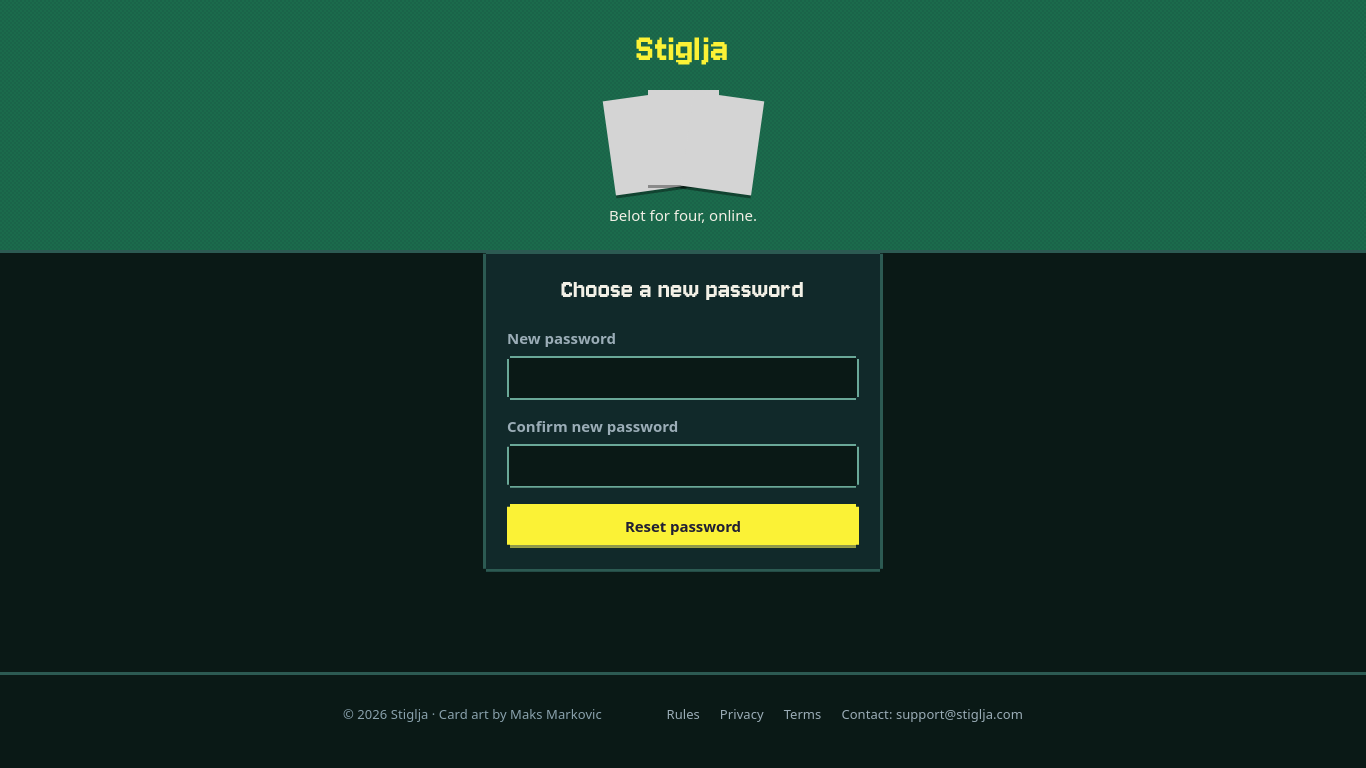
Test: ResetPasswordPage › the two fields must match
Type "brand-new-pass" into the password field labelled "New password" at (683, 378), box [507, 356, 859, 400]
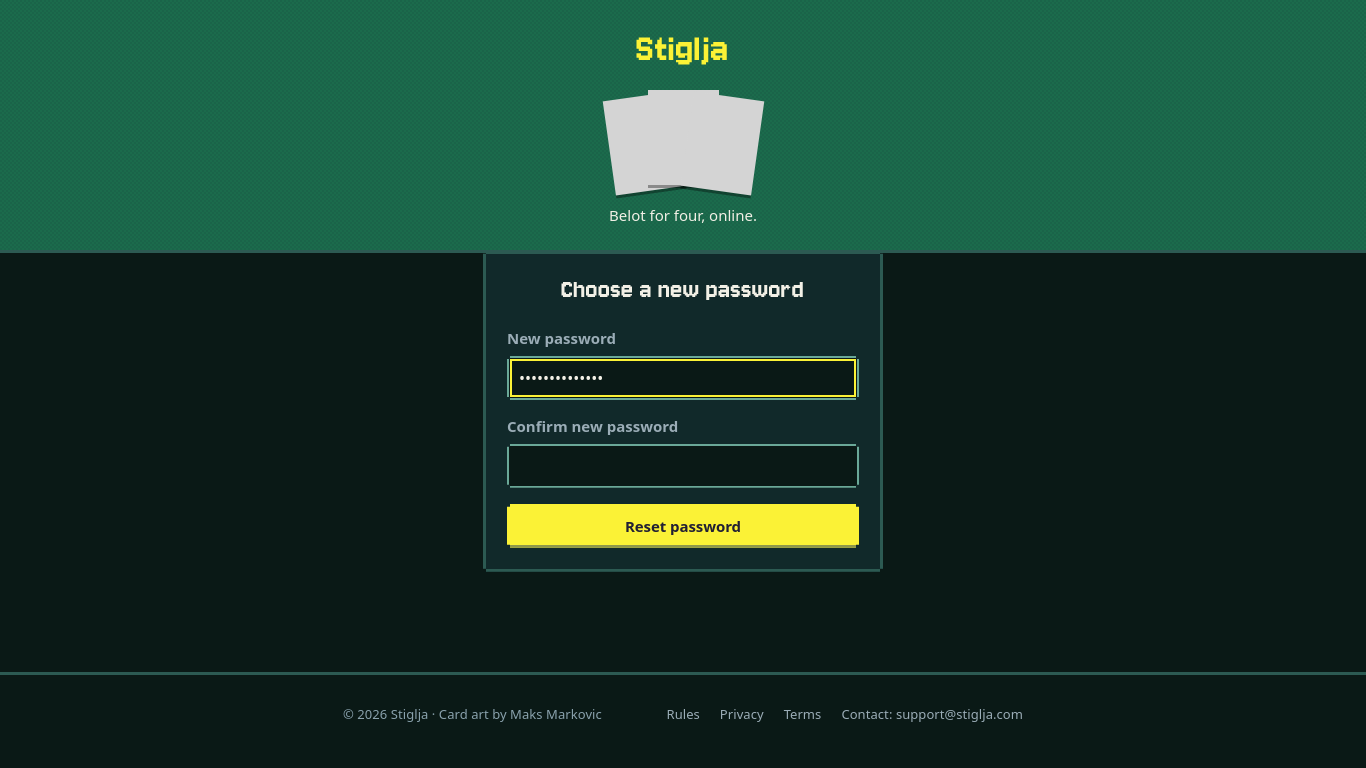
Type "brand-new-pas" into the password field labelled "Confirm new password" at (683, 466), box [507, 444, 859, 488]
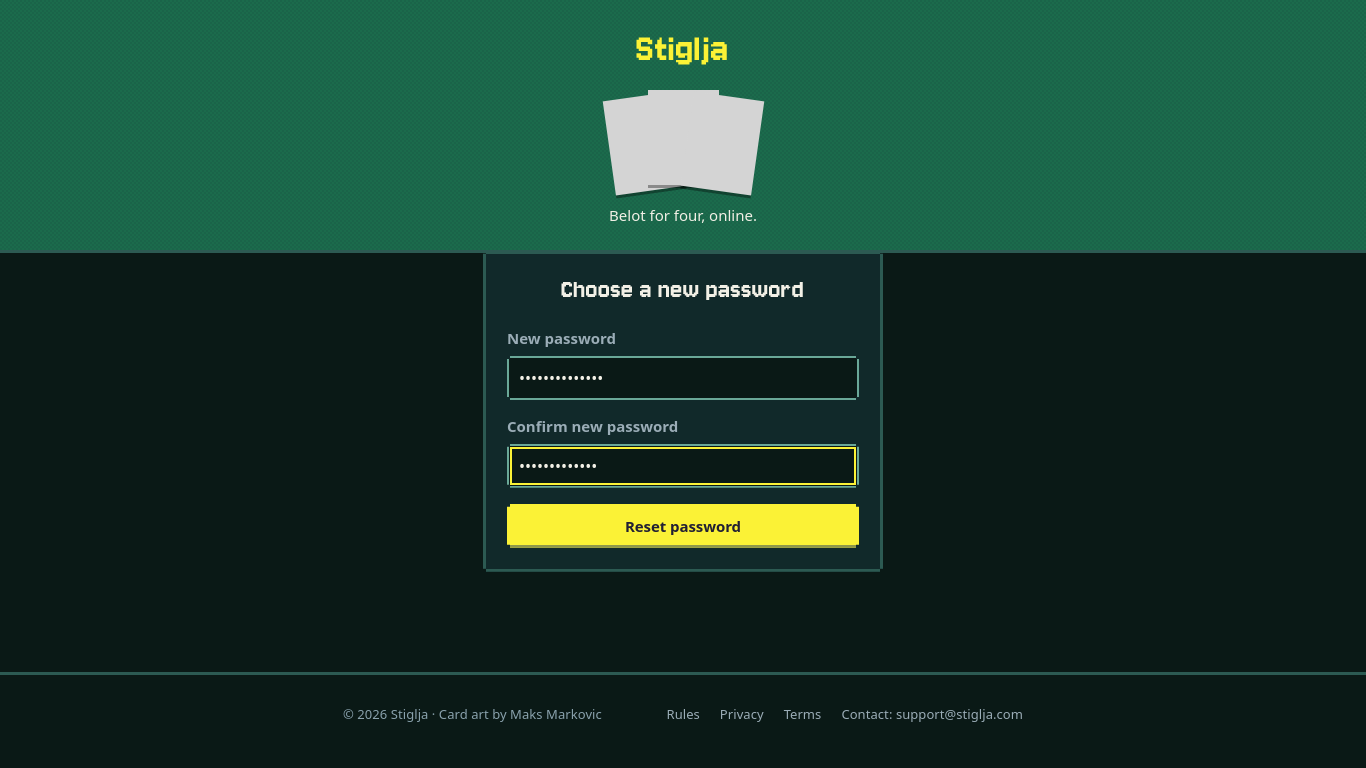
Click the button "Reset password" at (683, 526), box [507, 504, 859, 548]
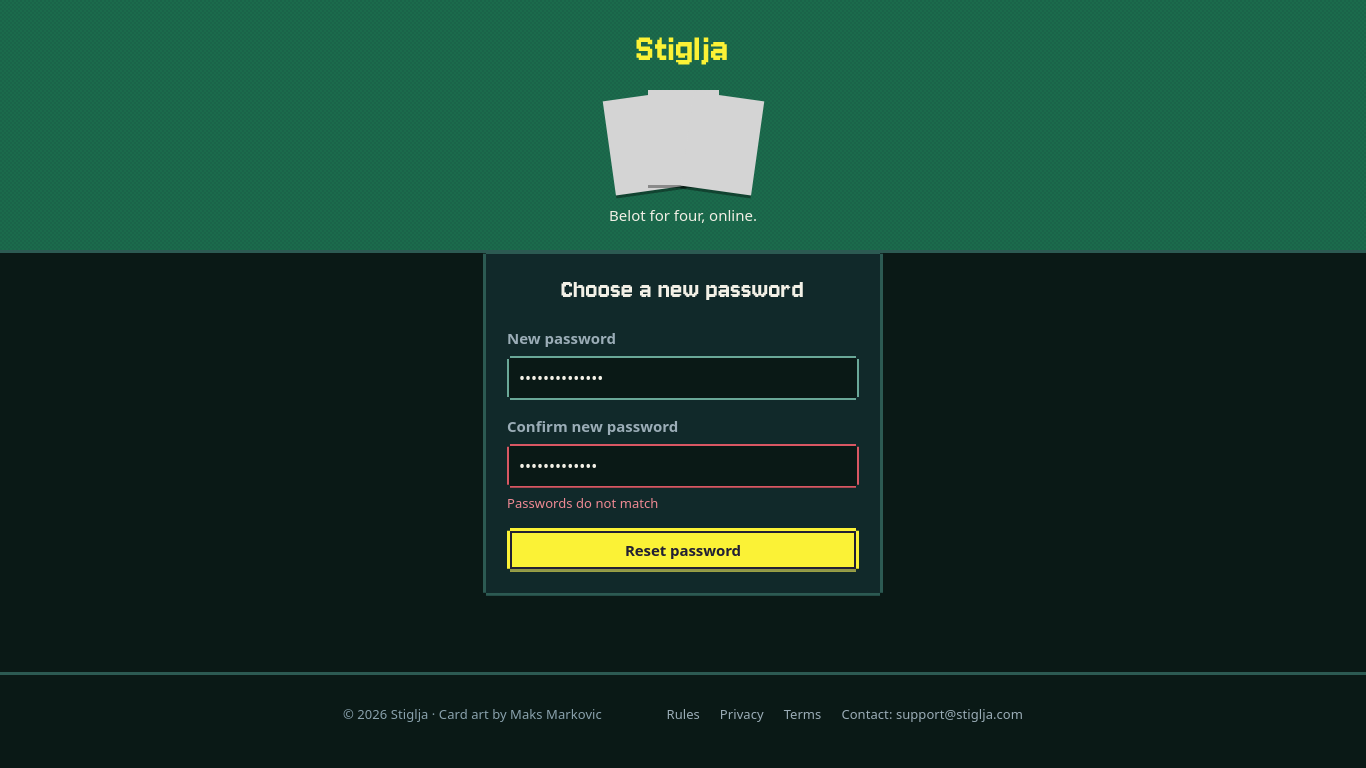
Now the text "Passwords do not match" is shown, box [507, 494, 658, 512]
